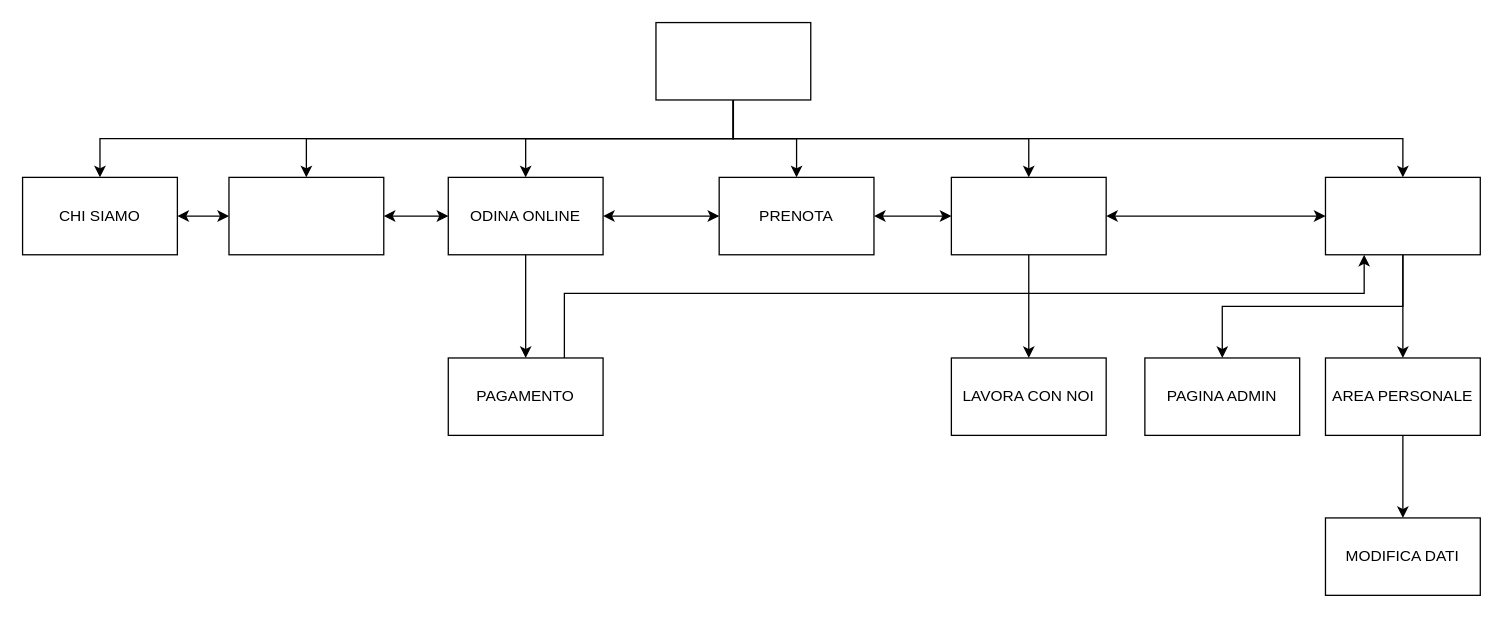
Image size: 1503x618. Some labels were removed from this diagram. The shapes that lost their labels are listed below. From the top down, each one's centre as x and y in pixels, then its label:
the point at 733,60: HOME
the point at 306,215: MENU
the point at 1028,215: CONTATTI
the point at 1402,215: ACCEDI/REGISTRATI
